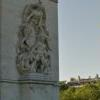Statue: (15, 5, 63, 83)
